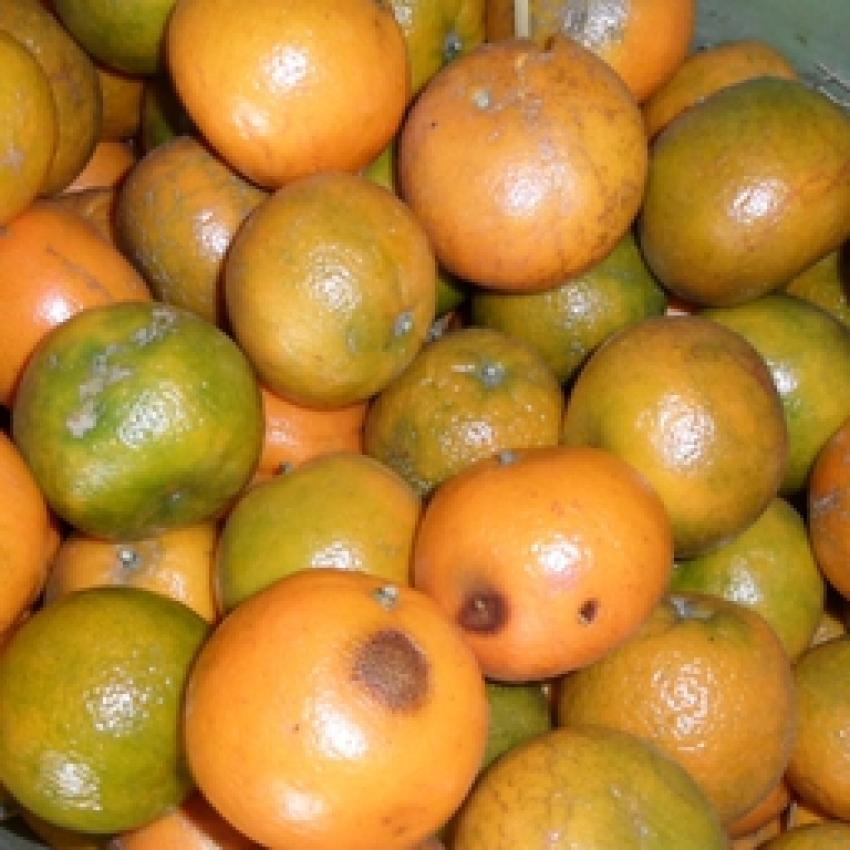Mal estado: (169, 569, 497, 842), (411, 435, 682, 685), (397, 38, 652, 296), (220, 167, 438, 407), (159, 0, 415, 183)
